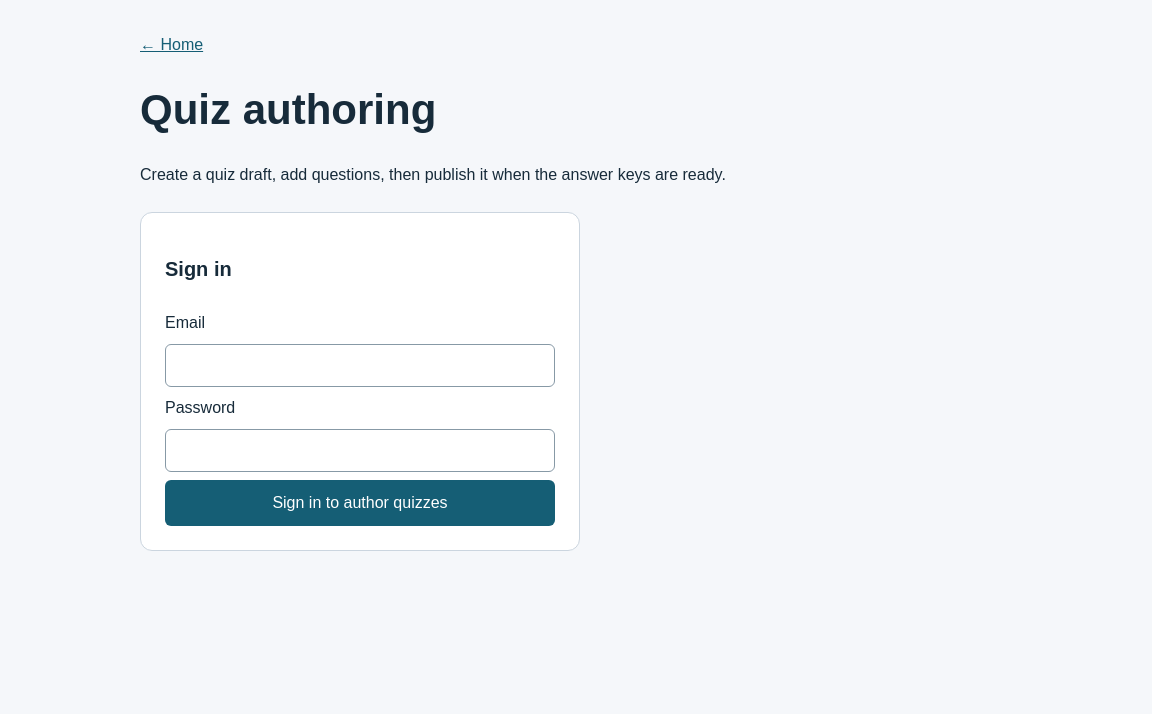
sign-in and quiz-ID forms show inline validation before requests
Click the button "Sign in to author quizzes" at (360, 503), box top-left (165, 480), bottom-right (555, 526)
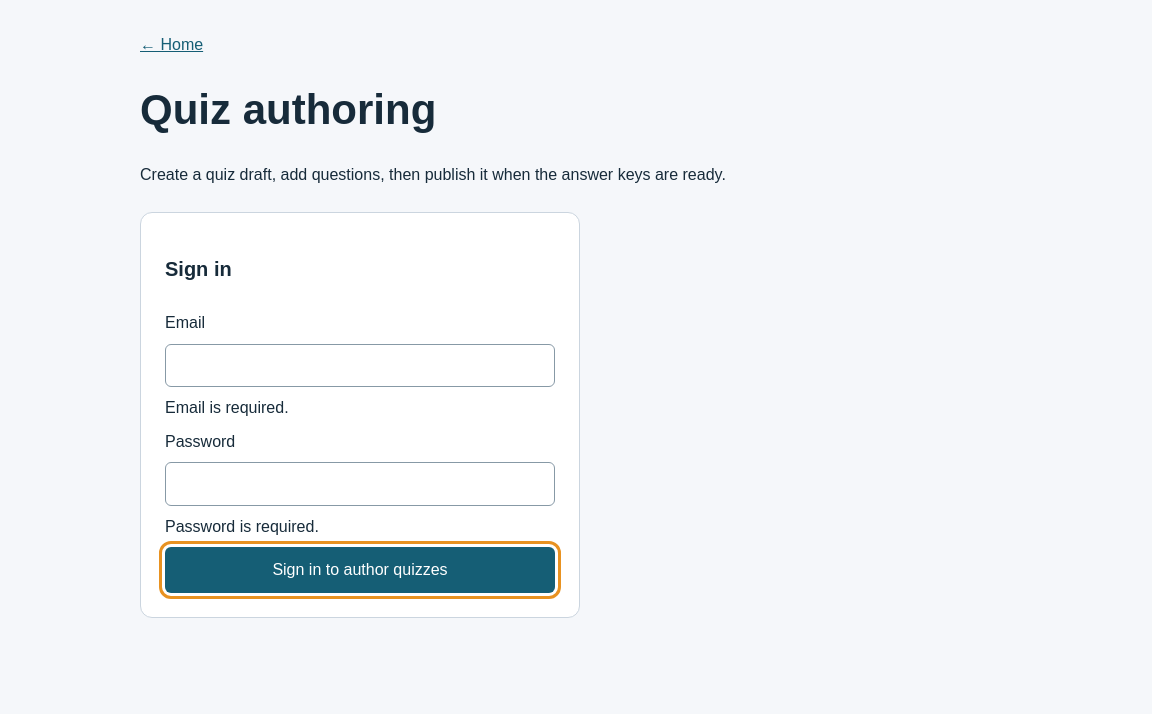
Now the text "Email is required." is shown, box top-left (165, 399), bottom-right (289, 416)
Now the text "Password is required." is shown, box top-left (165, 518), bottom-right (319, 535)
Type "author@example.com" into the field labelled "Email" at (360, 365), box top-left (165, 344), bottom-right (555, 387)
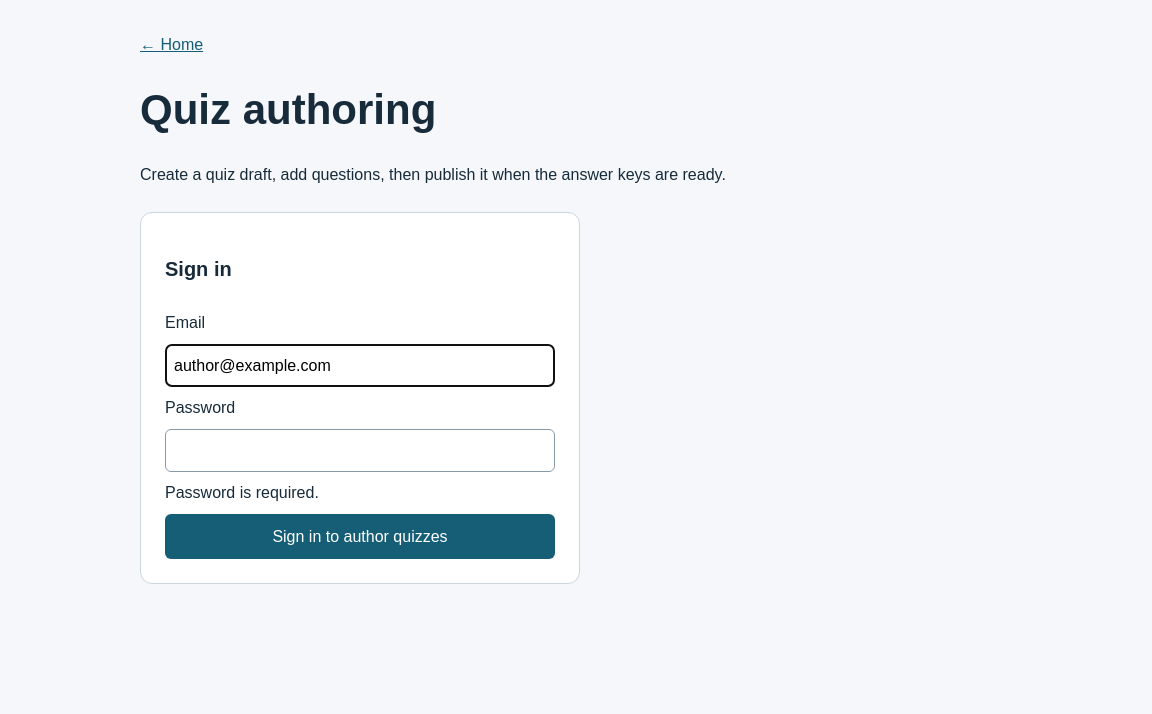
Type "Study1234" into the password field labelled "Password" at (360, 450), box top-left (165, 429), bottom-right (555, 472)
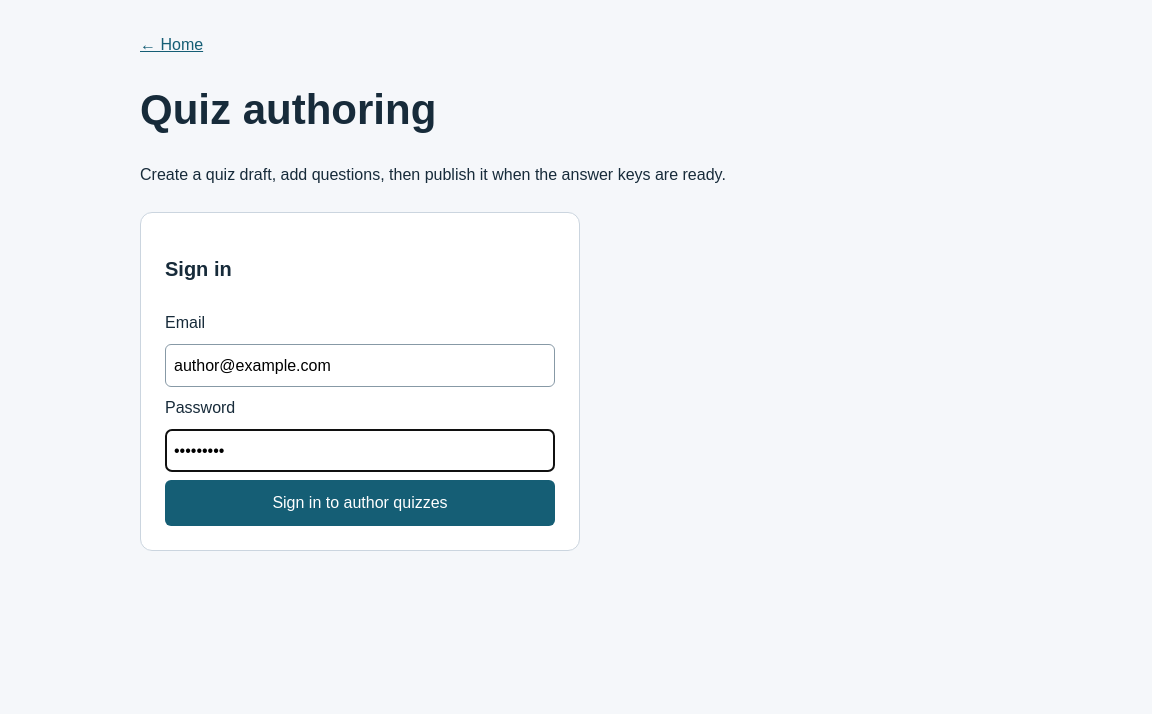
Click the button "Sign in to author quizzes" at (360, 503), box top-left (165, 480), bottom-right (555, 526)
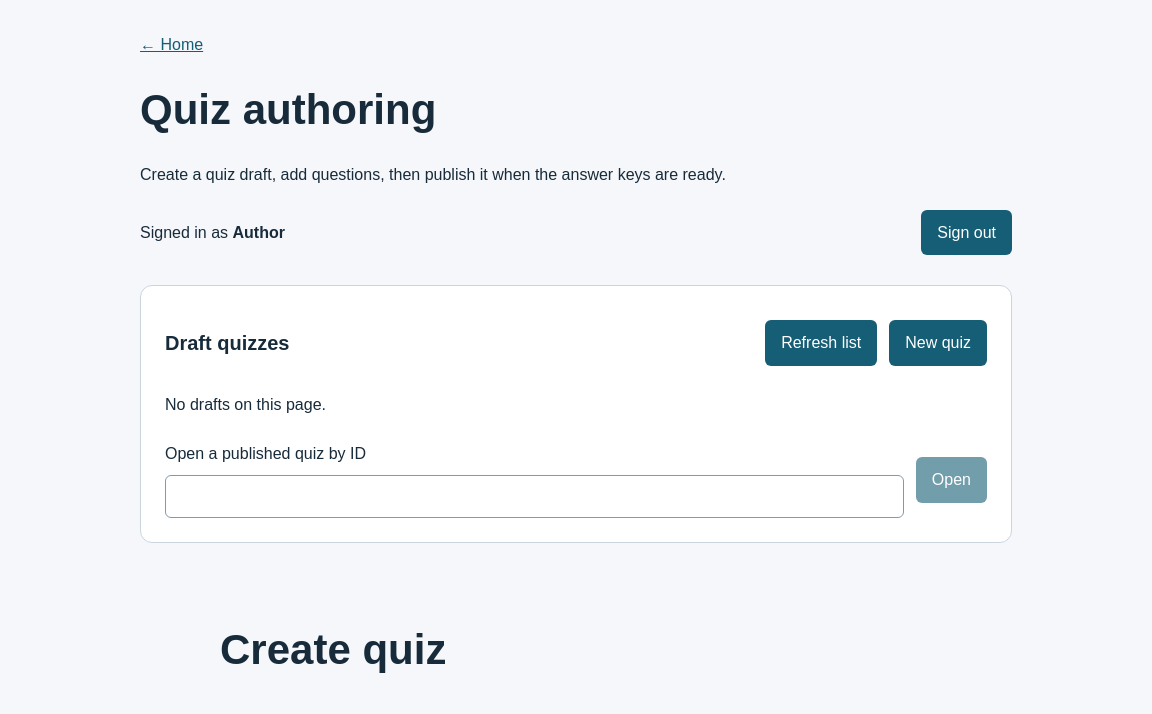
Now the heading "Create quiz" is shown, box top-left (220, 626), bottom-right (446, 673)
Type "not-an-id" into the field labelled "Open a published quiz by ID" at (534, 496), box top-left (165, 475), bottom-right (904, 518)
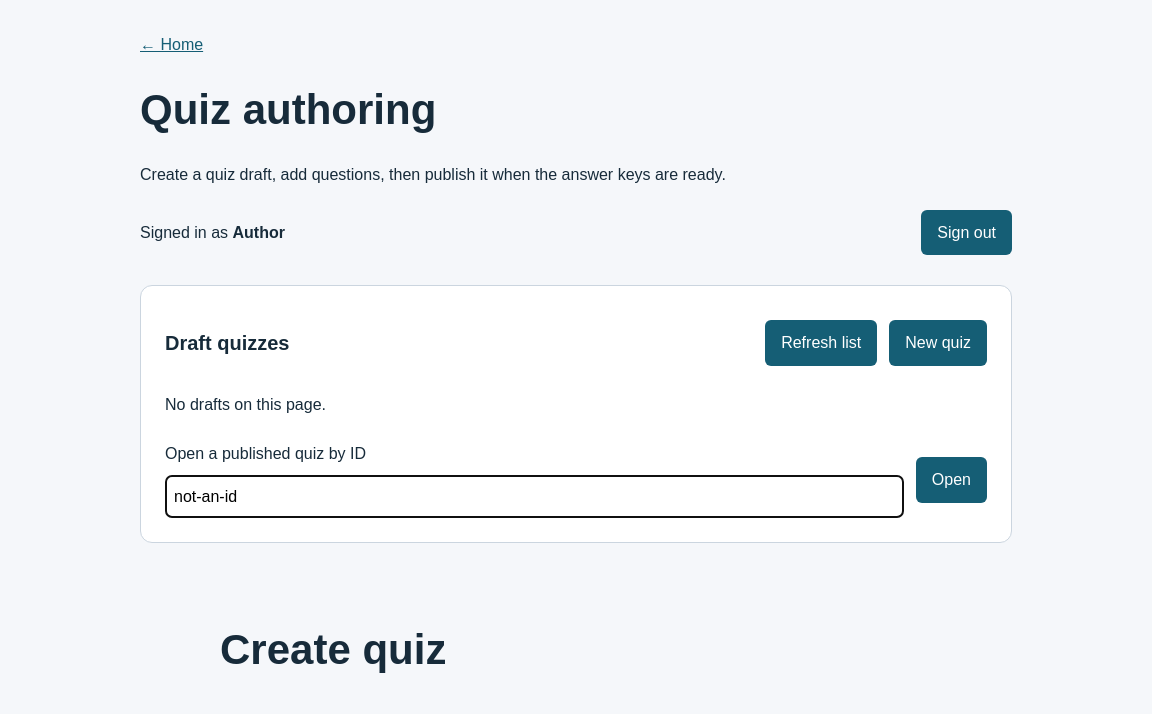
Click the button "Open" at (951, 480), box top-left (916, 457), bottom-right (987, 502)
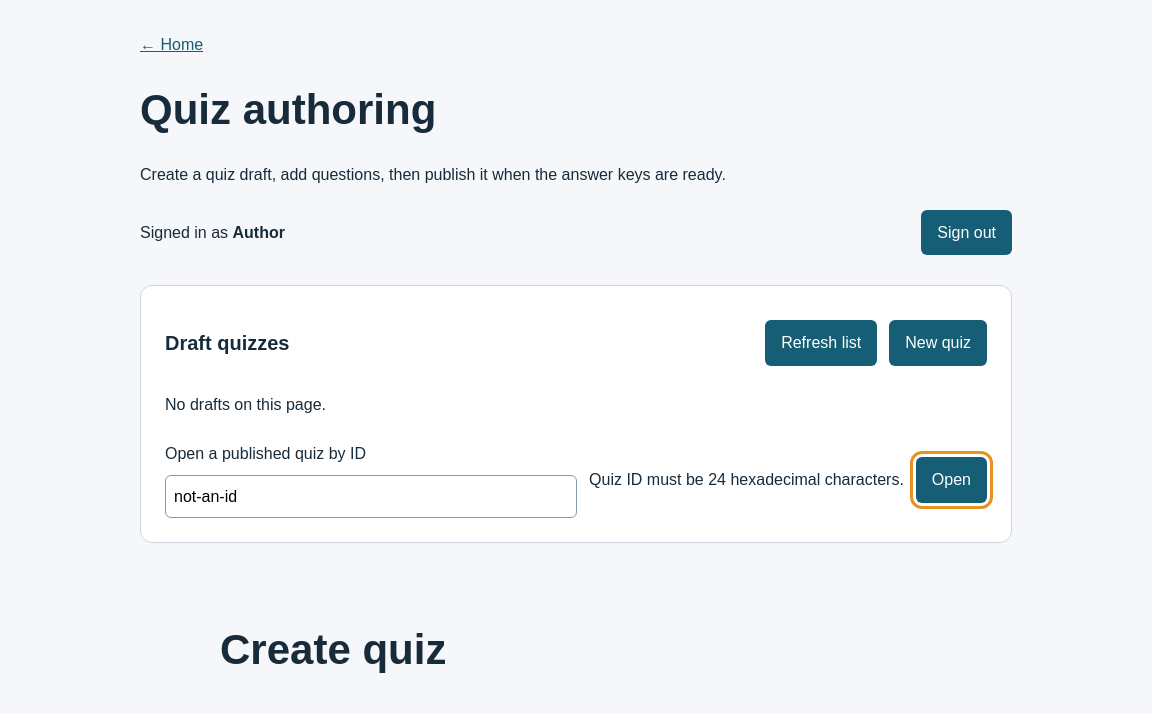
Now the text "Quiz ID must be 24 hexadecimal characters." is shown, box top-left (589, 467), bottom-right (904, 492)
